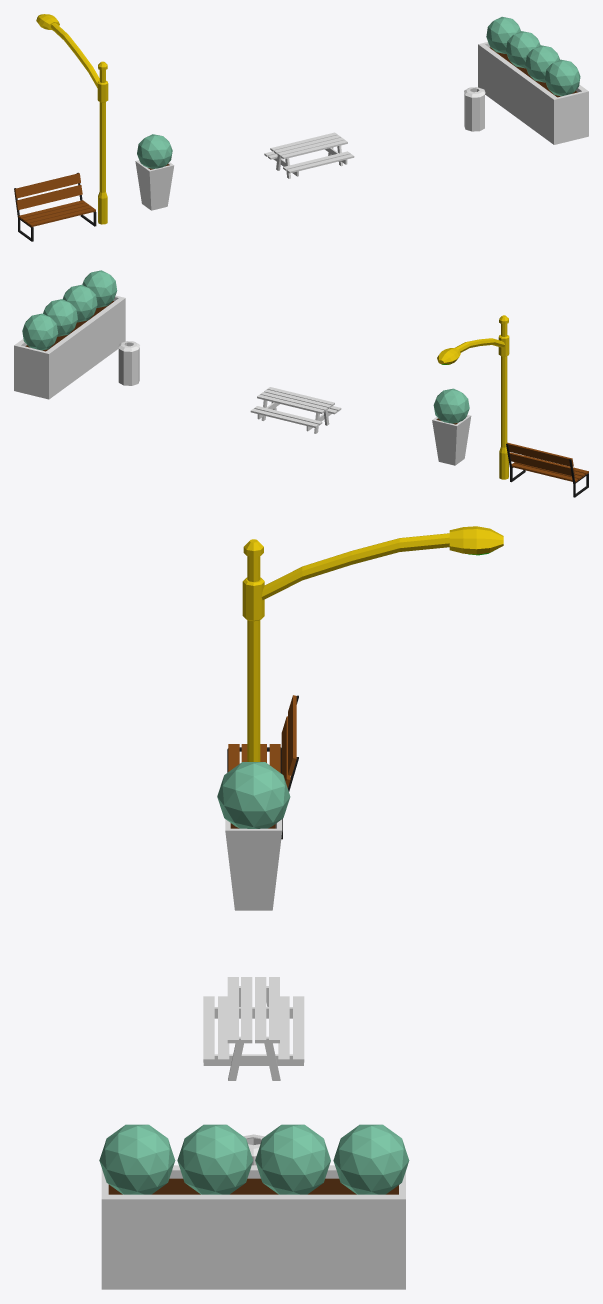
Rendered from Props_City.fbx.
3 views of the same model, one above another, from view 1: azimuth 30°, elevation 25°; view 2: azimuth 150°, elevation 25°; view 3: azimuth 270°, elevation 25° (orthographic). The views are drawn at different scales.
Parts seen in each view (by area): view 1: Cube.005, Cube.004, Cube, Cylinder, Cube.003, Cylinder.001; view 2: Cube.005, Cube, Cube.003, Cube.004, Cylinder, Cylinder.001; view 3: Cube.005, Cube, Cube.003, Cylinder, Cube.004.
Part boxes in pixels (x1,y1,x2,y2): Cube.005: (478, 16, 588, 144); Cube.004: (14, 172, 96, 241); Cube: (135, 134, 174, 210); Cylinder: (36, 14, 108, 224); Cube.003: (264, 132, 354, 178); Cylinder.001: (464, 87, 485, 131); Cube.005: (14, 270, 125, 399); Cube: (432, 388, 471, 465); Cube.003: (250, 387, 341, 433); Cube.004: (506, 442, 588, 497); Cylinder: (437, 315, 509, 479); Cylinder.001: (118, 341, 139, 385); Cube.005: (99, 1124, 409, 1289); Cube: (217, 762, 290, 910); Cube.003: (203, 977, 304, 1080); Cylinder: (242, 526, 503, 761); Cube.004: (227, 695, 298, 839).
Size of the model in its own units: 11.96 by 3.61 by 3.98.
